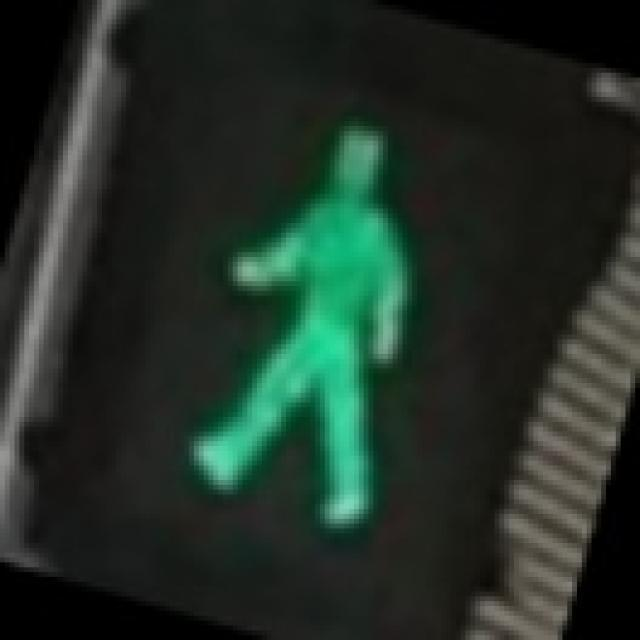geen-crossing: (146, 78, 490, 552)
